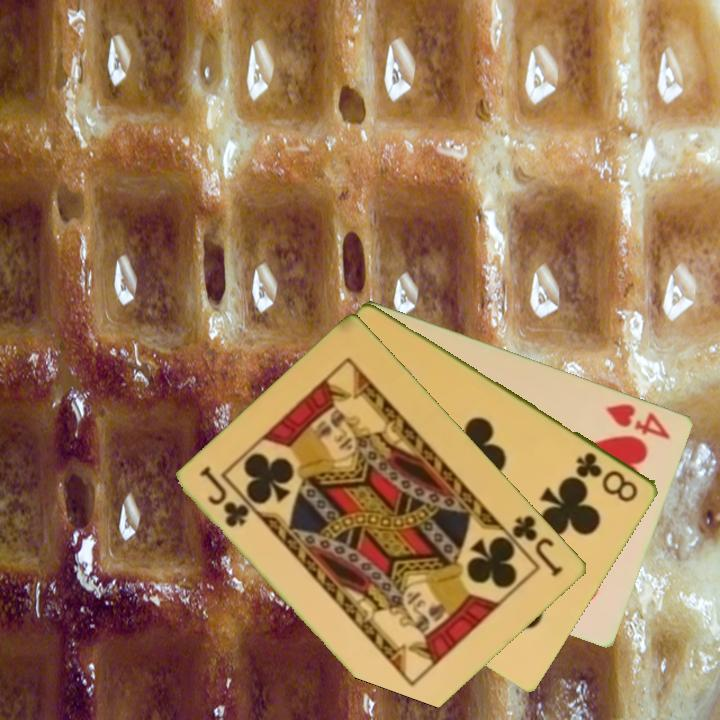4h: (602, 399, 674, 442)
8c: (572, 448, 642, 505)
Jc: (508, 511, 567, 580), (197, 462, 253, 530)
